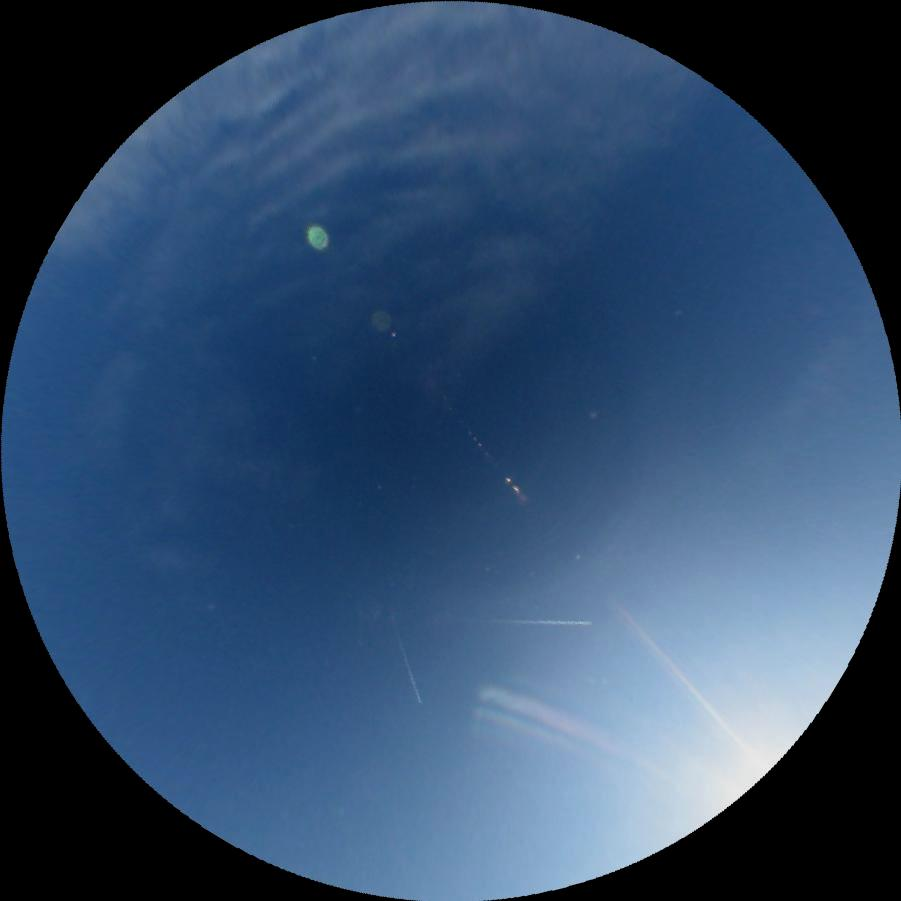contrail young: (390, 617, 422, 703), (487, 619, 591, 624)
parasite: (605, 595, 764, 765), (473, 673, 631, 760)
